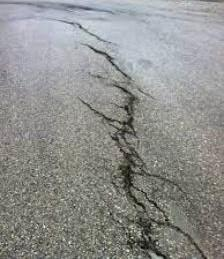crack: (81, 44, 212, 259), (25, 13, 122, 42)
